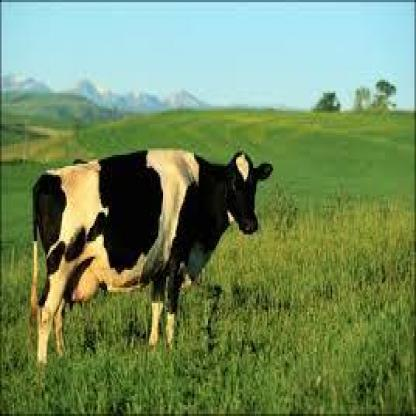cow: (29, 150, 272, 368)
